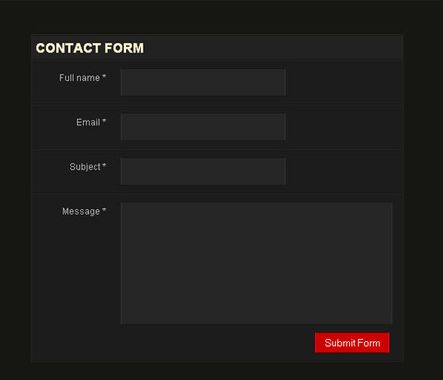_form_: (34, 36, 416, 380)
button: (310, 331, 392, 354)
field: (119, 202, 393, 327), (118, 157, 288, 188), (117, 68, 287, 98), (118, 111, 288, 141)
field_with_label: (63, 201, 395, 328), (59, 66, 289, 100), (69, 155, 290, 190), (72, 109, 290, 143)
